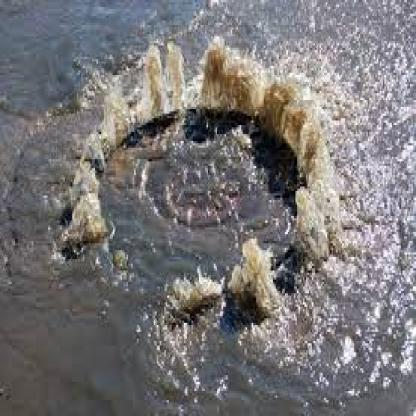drainage overflow-repair-: (34, 29, 374, 372)
